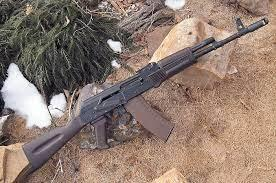larga: (21, 17, 270, 171)
